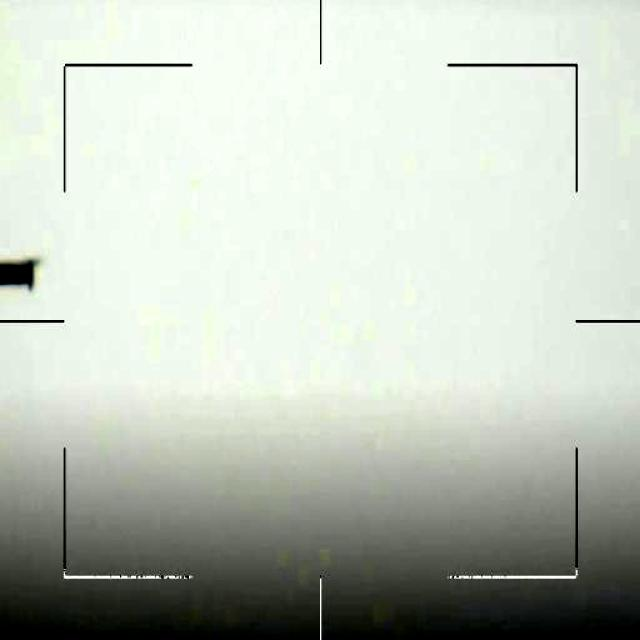bird: (0, 259, 41, 295)
